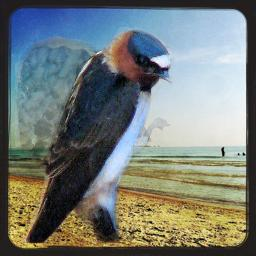Swallow: (15, 27, 172, 243)
